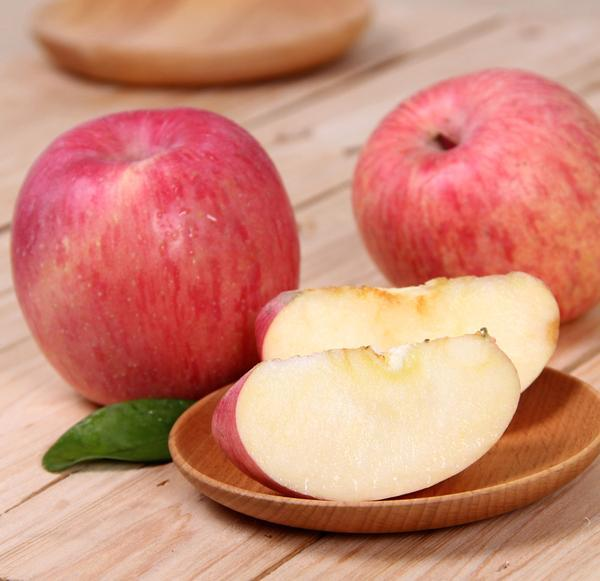apple: (10, 106, 305, 406), (338, 65, 590, 325)
